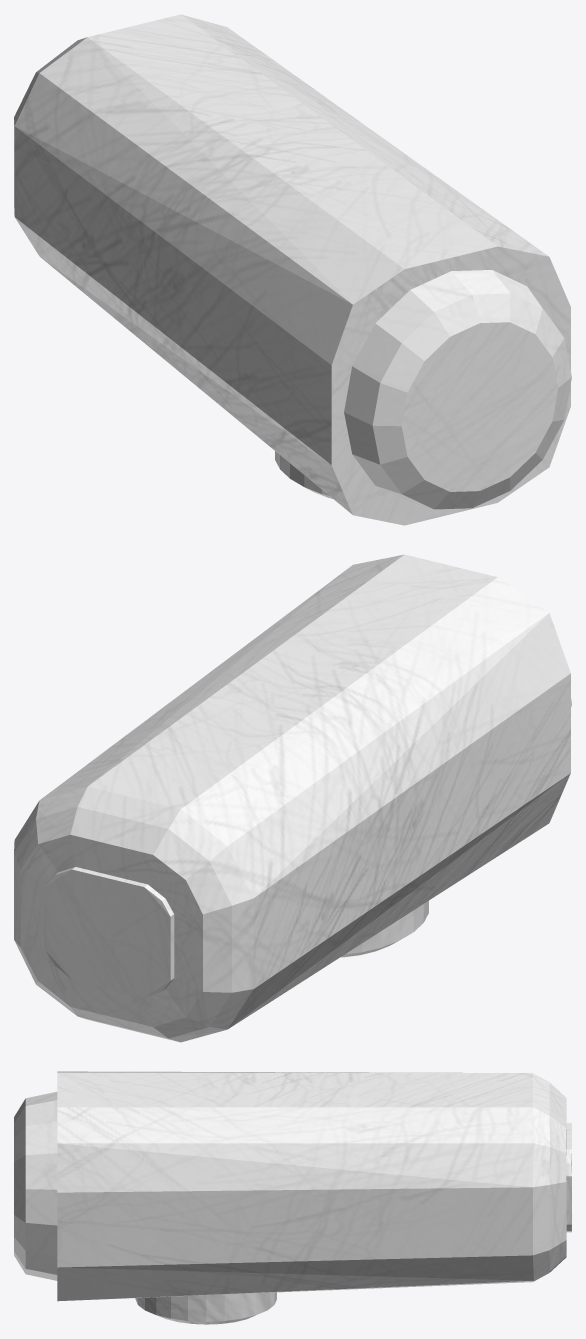
Rendered from rotor.dae.
The picture shows the model from 3 angles, top to bottom: view 1: azimuth 30°, elevation 25°; view 2: azimuth 150°, elevation 25°; view 3: azimuth 270°, elevation 25°; orthographic projection. The views are drawn at different scales.
Visible parts, largest first — view 1: Rotor; view 2: Rotor; view 3: Rotor.
Boxes of the visible parts, x1,y1,x2,y2 form: Rotor: (14, 14, 571, 525); Rotor: (14, 554, 571, 1042); Rotor: (14, 1071, 571, 1324).
Bounding box in the file's own units: 2.6 × 7 × 3.
